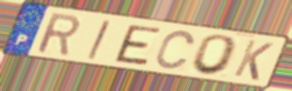C: (153, 29, 197, 71)
E: (113, 23, 164, 67)
I: (85, 18, 112, 62)
K: (231, 38, 276, 83)
O: (189, 33, 240, 77)
R: (35, 11, 81, 58)
